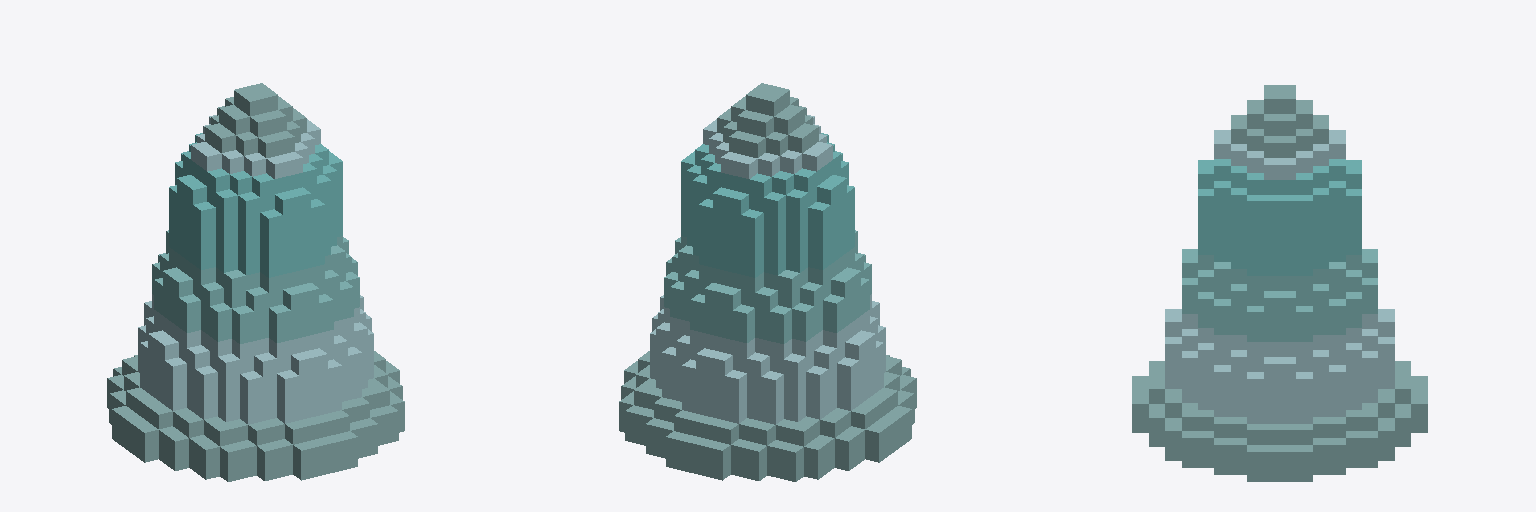
The picture shows the model from 3 angles: view 1: azimuth 30°, elevation 25°; view 2: azimuth 150°, elevation 25°; view 3: azimuth 270°, elevation 25°; orthographic projection.
Parts seen in each view (by area): view 1: Model; view 2: Model; view 3: Model.
Part boxes in pixels (left/top/right/bottom): Model: left=107, top=83, right=404, bottom=481; Model: left=619, top=83, right=916, bottom=481; Model: left=1132, top=85, right=1427, bottom=481.
Size of the model in its own units: 18 by 22 by 18.
1 materials, 1 textured.